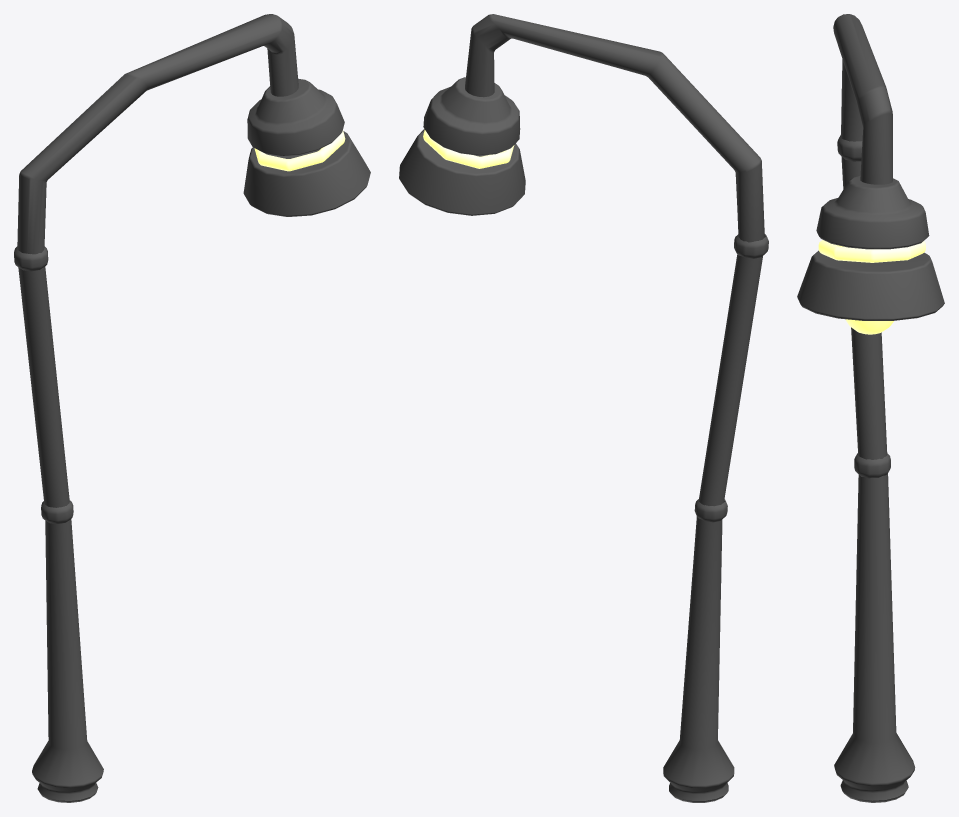
The model's file is SM_Street_Lamp_01.fbx.
3 views of the same model, side by side, from view 1: azimuth 30°, elevation 25°; view 2: azimuth 150°, elevation 25°; view 3: azimuth 270°, elevation 25° (orthographic). The views are drawn at different scales.
Parts seen in each view (by area): view 1: SM_Lamp_01; view 2: SM_Lamp_01; view 3: SM_Lamp_01.
Boxes of the visible parts, box(x1,y1,x2,y2) form: SM_Lamp_01: box(14, 14, 370, 802); SM_Lamp_01: box(399, 14, 768, 802); SM_Lamp_01: box(797, 14, 944, 802).
Size of the model in its own units: 636 by 1253 by 206.
